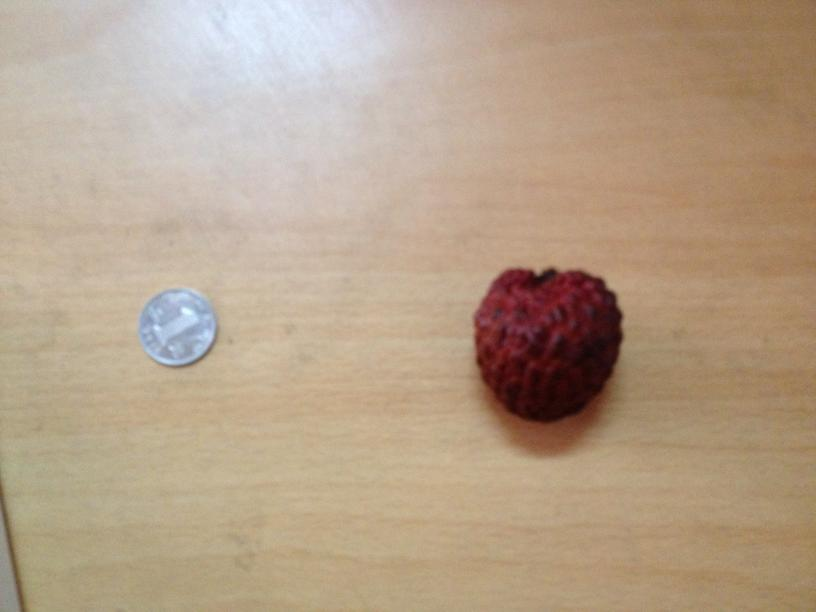coin: (140, 287, 216, 366)
litchi: (473, 265, 623, 422)
